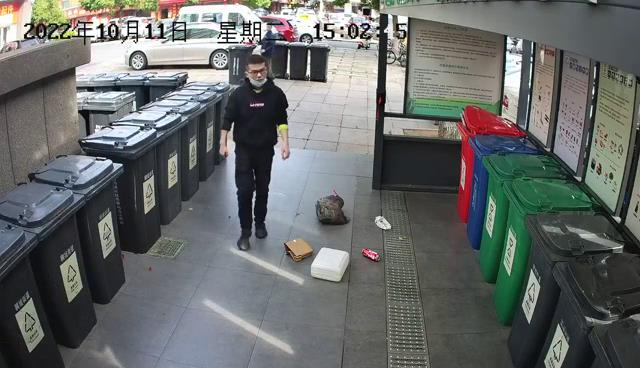lvzhipin: (361, 246, 382, 262), (375, 214, 393, 231)
paomozhipin: (309, 245, 351, 284)
person: (219, 53, 291, 250)
suliaozhipin: (313, 192, 351, 226)
zhizhipin: (285, 237, 314, 264)
